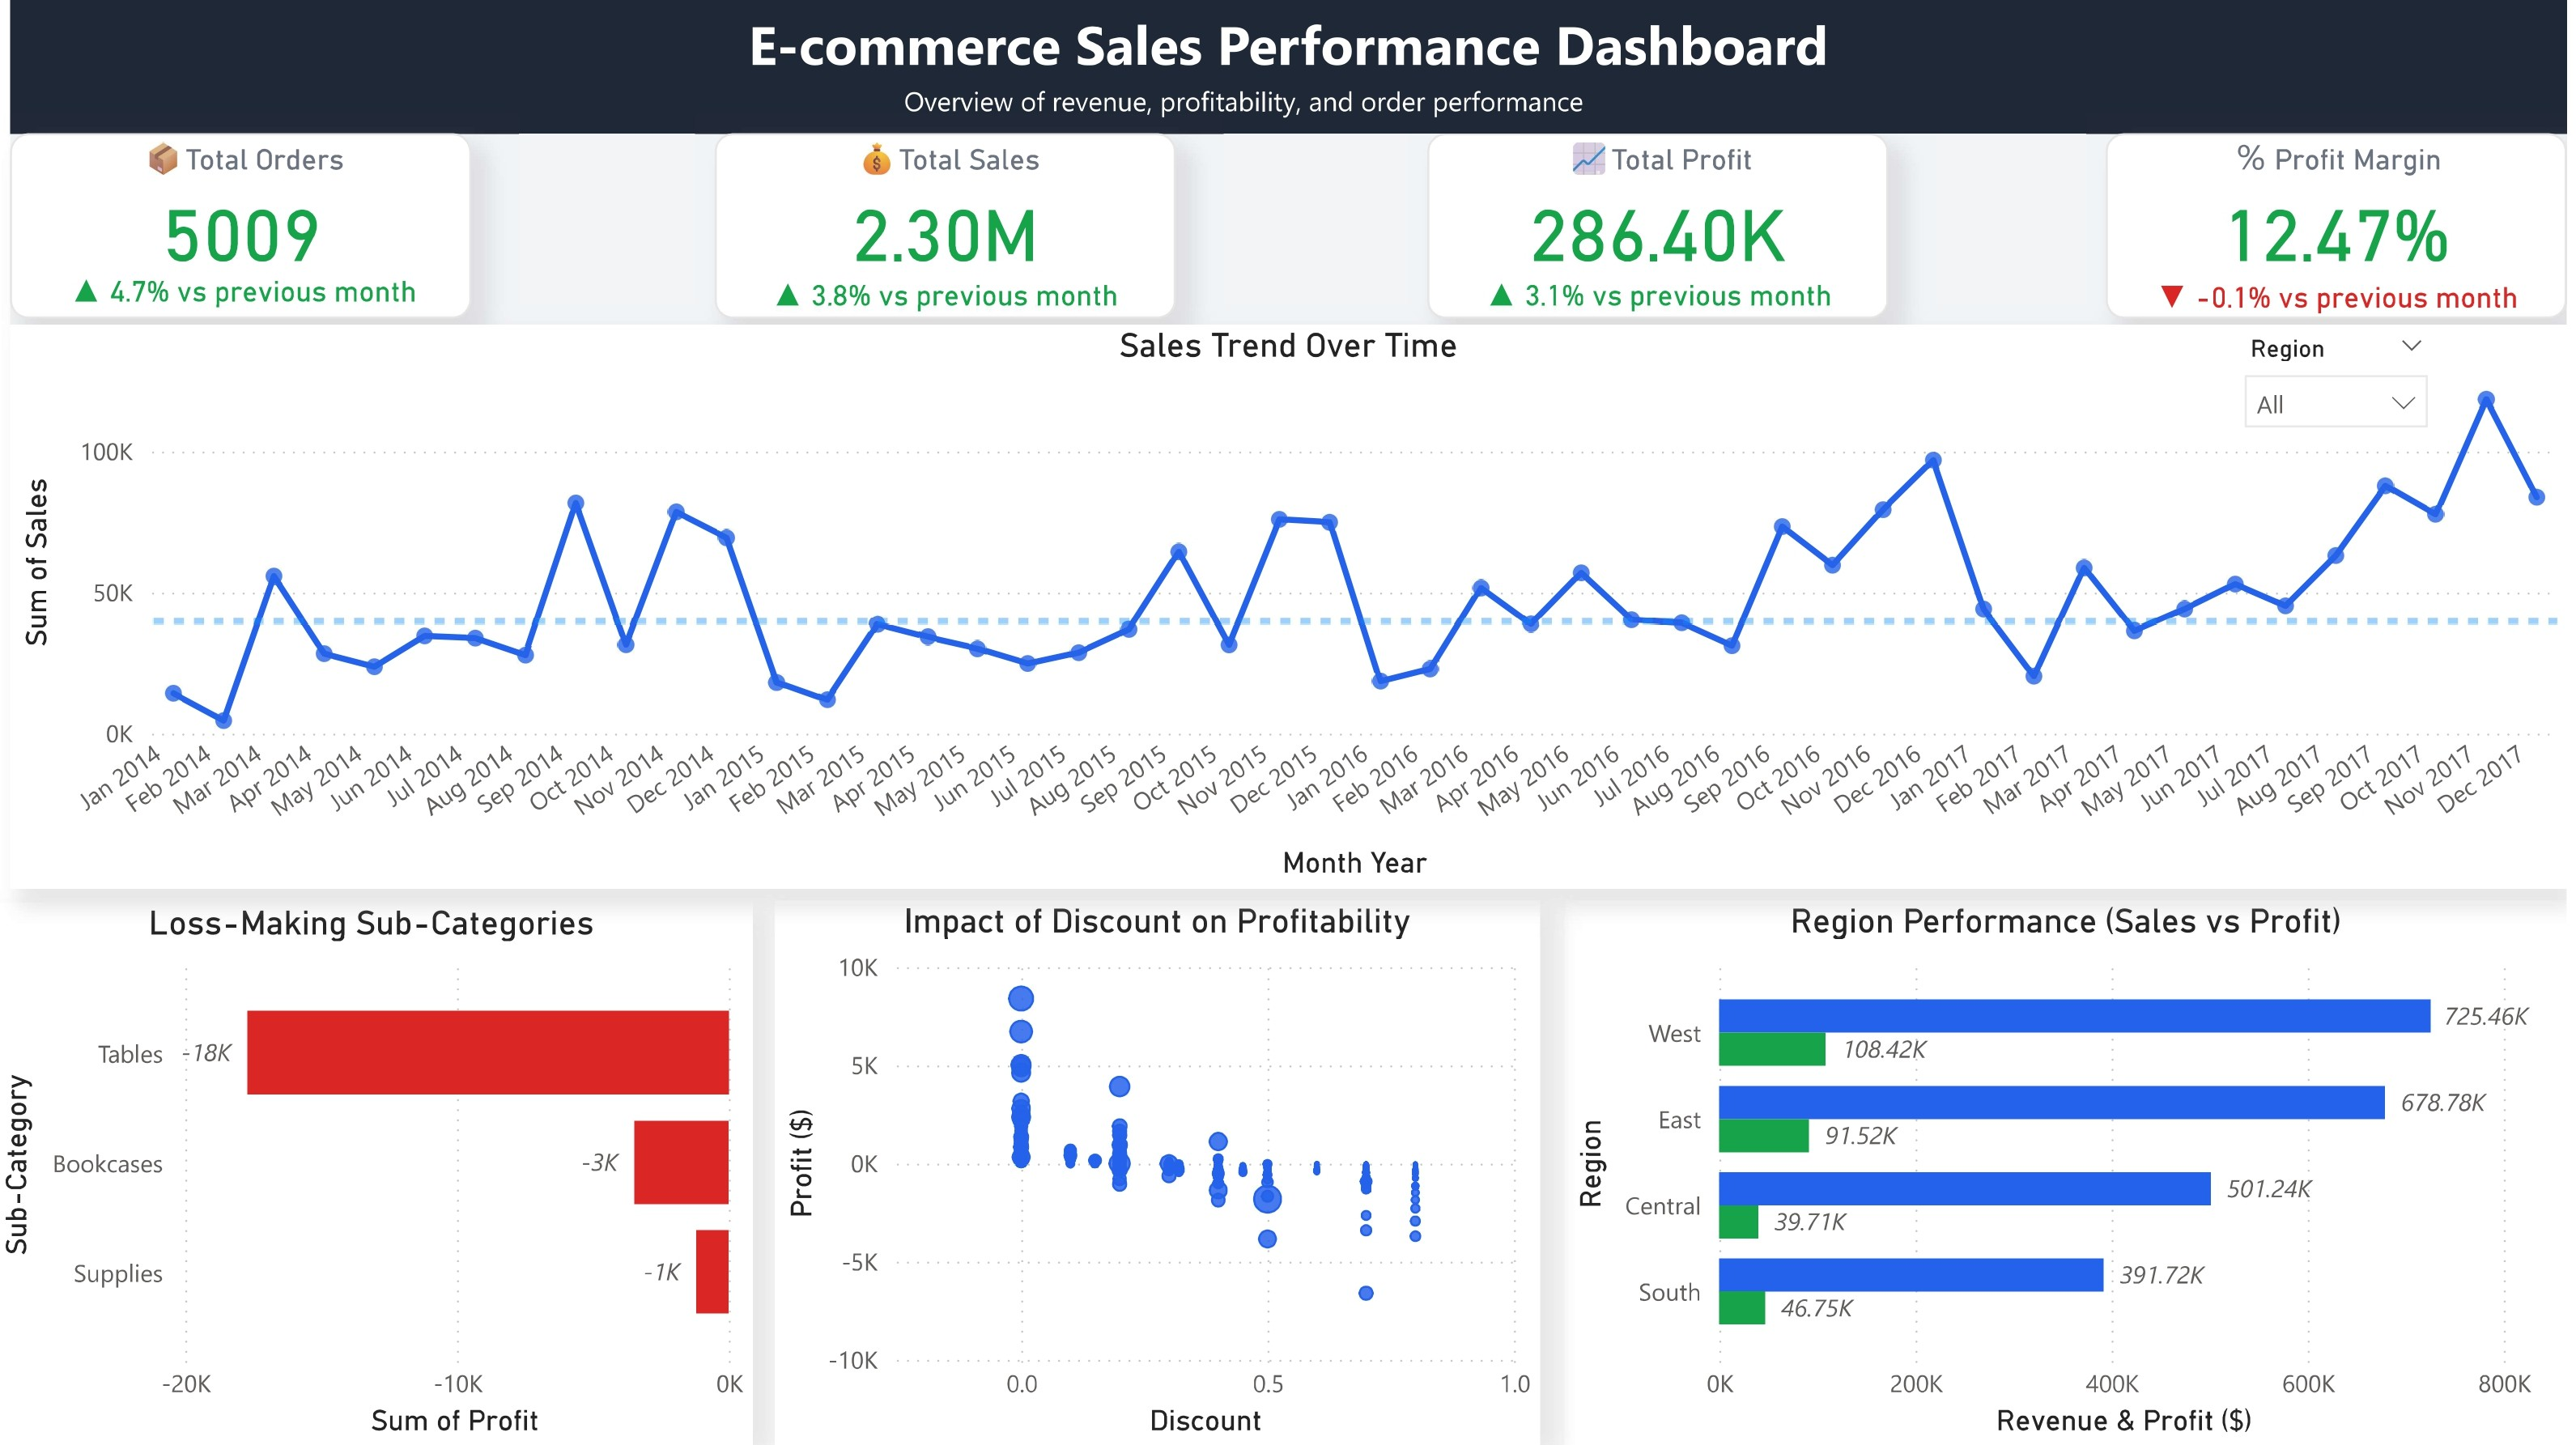

Layout of this report page (visuals, bound fields, positions):
{"tool":"powerbi","page":{"name":"Dashboard","canvas":[1280,720],"ordinal":0},"visuals":[{"type":"shape","box":[10,68,1270,96],"z":0},{"type":"card","title":"📈Total Profit","fields":{"Values":["Superstore.Total Profit"]},"box":[714,68,229,92],"z":1000},{"type":"textbox","box":[10,0,1270,68],"z":2000},{"type":"card","title":"💰Total Sales","fields":{"Values":["Superstore.Total Sales"]},"box":[360,68,229,92],"z":3000},{"type":"card","fields":{"Values":["Superstore.Profit Trend"]},"box":[715,135,228,29],"z":4000},{"type":"card","title":"📦Total Orders","fields":{"Values":["Superstore.Total Orders"]},"box":[10,68,229,92],"z":5000},{"type":"card","title":"％ Profit Margin","fields":{"Values":["Superstore.Profit Margin"]},"box":[1051,68,229,92],"z":6000},{"type":"card","fields":{"Values":["Superstore.Sales Trend Indicator"]},"box":[360,135,229,29],"z":7000},{"type":"card","fields":{"Values":["Superstore.Orders Trend"]},"box":[10,132,232,31],"z":8000},{"type":"textbox","box":[449,38,349,29],"z":9000},{"type":"clusteredBarChart","title":"Region Performance (Sales vs Profit)","fields":{"Category":["Superstore.Region"],"Y":["Sum(Superstore.Sales)","Sum(Superstore.Profit)"]},"box":[781.6,449,498.4,271.5],"z":10000},{"type":"clusteredBarChart","title":"Loss-Making Sub-Categories","fields":{"Category":["Superstore.Sub-Category"],"Y":["Sum(Superstore.Profit)"]},"box":[0,449.9,379.2,270.5],"z":11000},{"type":"scatterChart","title":"Impact of Discount on Profitability","fields":{"X":["Superstore.Discount"],"Y":["Superstore.Profit"],"Size":["Sum(Superstore.Sales)"]},"box":[389.8,449,380.1,270.5],"z":11001},{"type":"lineChart","title":"Sales Trend Over Time","fields":{"Y":["Sum(Superstore.Sales)"],"Category":["Date Table.Month Year"]},"box":[10.1,163.1,1269.9,279.5],"z":11002},{"type":"slicer","fields":{"Values":["Superstore.Region"]},"box":[1109.6,163.1,111.8,54.1],"z":11003},{"type":"card","fields":{"Values":["Superstore.Profit Margin Trend"]},"box":[1051.9,135.6,228.1,29.3],"z":11004}]}

Visuals, with their boxes in screenshot pixels (x1, y1, x2, y2), scaled from the page's 1280x720 canvas onto the 2576x1445 screenshot:
shape: Rect(20, 137, 2575, 329)
"📈Total Profit" card: Rect(1437, 137, 1898, 321)
textbox: Rect(20, 0, 2575, 137)
"💰Total Sales" card: Rect(725, 137, 1185, 321)
card - Superstore.Profit Trend: Rect(1439, 271, 1898, 329)
"📦Total Orders" card: Rect(20, 137, 481, 321)
"％ Profit Margin" card: Rect(2115, 137, 2575, 321)
card - Superstore.Sales Trend Indicator: Rect(725, 271, 1185, 329)
card - Superstore.Orders Trend: Rect(20, 265, 487, 327)
textbox: Rect(903, 76, 1606, 134)
"Region Performance (Sales vs Profit)" clusteredBarChart: Rect(1573, 901, 2575, 1444)
"Loss-Making Sub-Categories" clusteredBarChart: Rect(0, 903, 763, 1444)
"Impact of Discount on Profitability" scatterChart: Rect(784, 901, 1549, 1444)
"Sales Trend Over Time" lineChart: Rect(20, 327, 2575, 888)
slicer - Superstore.Region: Rect(2233, 327, 2458, 436)
card - Superstore.Profit Margin Trend: Rect(2117, 272, 2575, 331)
